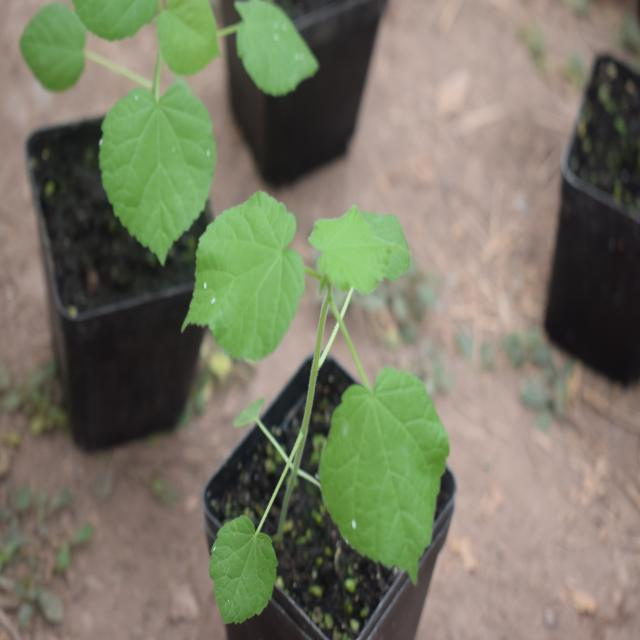abutilon theophrasti: (173, 172, 440, 580)
